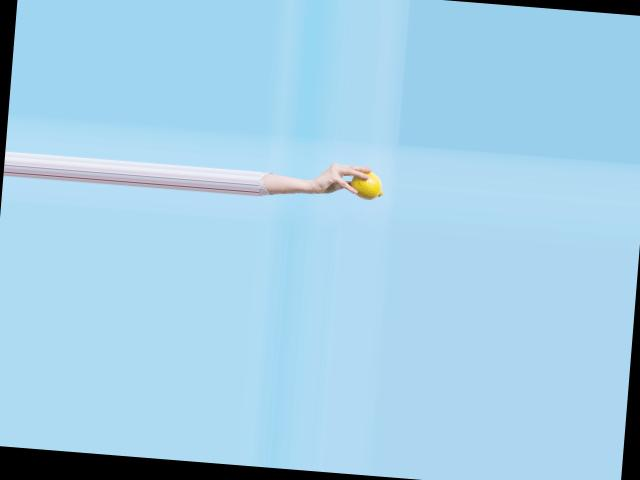lemon: (338, 148, 388, 202)
